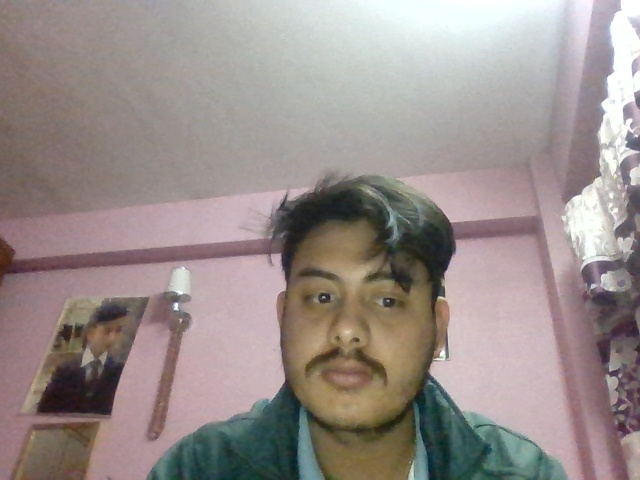no mask: (275, 311, 450, 429)
